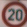20 km speed: (1, 1, 26, 27)
